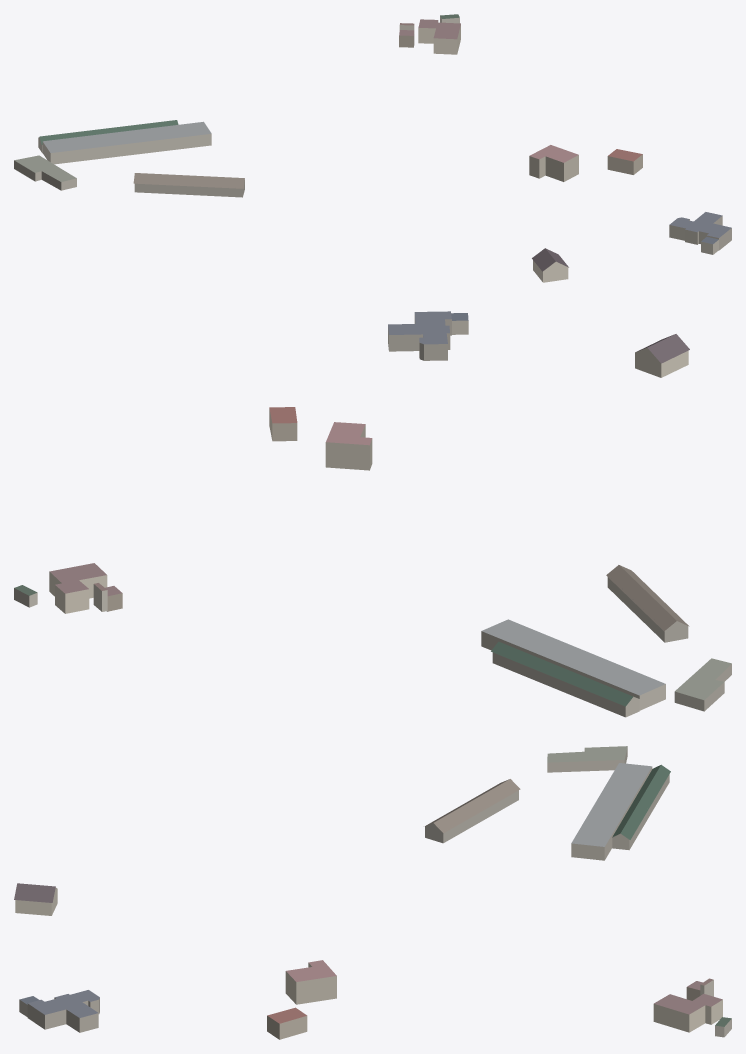
3 renders of one model, top to bottom at view 1: azimuth 30°, elevation 25°; view 2: azimuth 150°, elevation 25°; view 3: azimuth 270°, elevation 25°, orthographic. The views are drawn at different scales.
Visible parts, largest first — view 1: tuile; view 2: tuile; view 3: tuile.
Part boxes in pixels (x1,y1,x2,y2): tuile: (14,14,731,282); tuile: (14,311,731,717); tuile: (14,746,731,1039).
Size of the model in its own units: 200 by 14.43 by 219.
